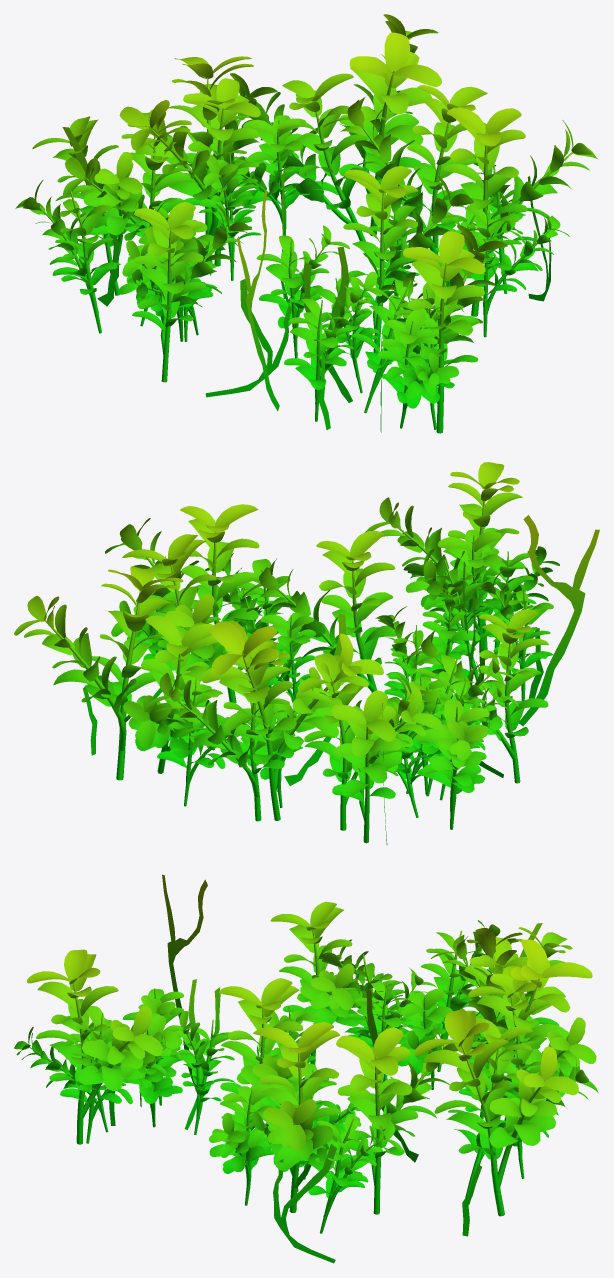
File: Lingonberry_LOD0_Var14.fbx
3 renders of one model, top to bottom at view 1: azimuth 30°, elevation 25°; view 2: azimuth 150°, elevation 25°; view 3: azimuth 270°, elevation 25°, orthographic. The views are drawn at different scales.
Parts seen in each view (by area): view 1: _7z67_Var14_LOD0; view 2: _7z67_Var14_LOD0; view 3: _7z67_Var14_LOD0.
Part boxes in pixels (x1,y1,x2,y2): _7z67_Var14_LOD0: (15,14,598,433); _7z67_Var14_LOD0: (14,462,599,844); _7z67_Var14_LOD0: (14,874,598,1263).
Bounding box in the file's own units: 39.92 × 18.8 × 43.67.
